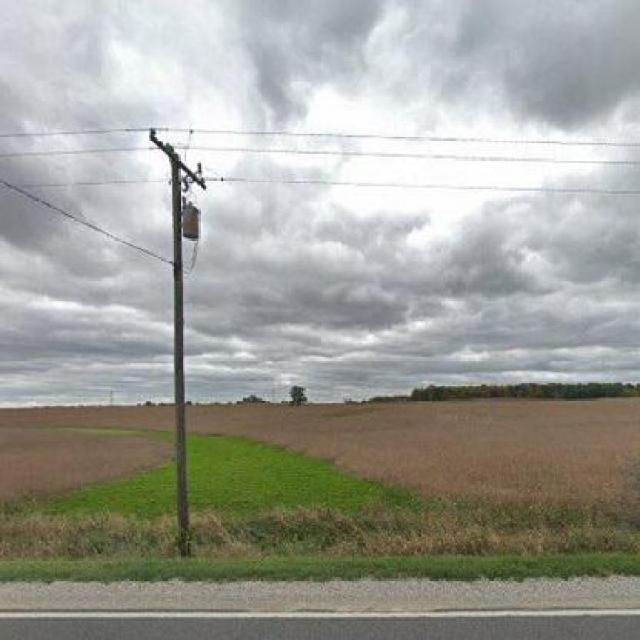pole: (135, 112, 220, 558)
